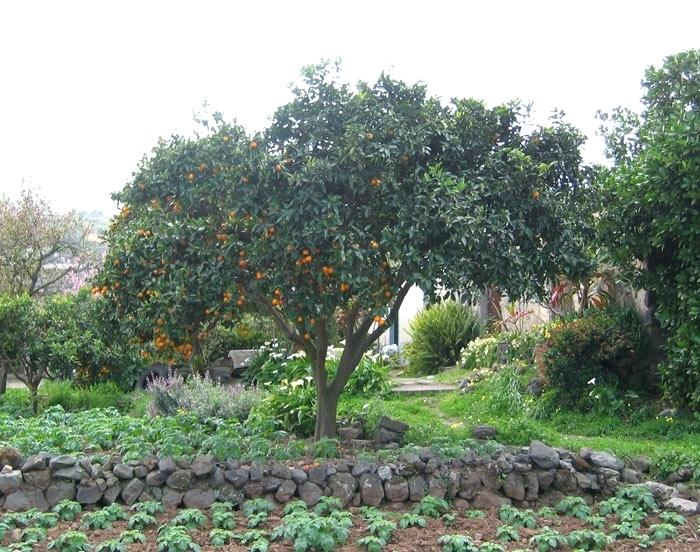orange: (301, 248, 311, 257), (198, 163, 207, 173), (143, 229, 152, 238), (532, 190, 540, 200), (238, 248, 246, 257), (255, 271, 263, 280), (384, 290, 392, 299), (366, 132, 374, 141), (137, 228, 145, 236), (239, 259, 247, 267), (299, 256, 307, 264), (223, 135, 231, 143), (274, 164, 282, 172), (187, 173, 195, 181), (242, 176, 250, 184), (229, 210, 237, 218), (137, 291, 145, 299), (174, 204, 181, 213), (275, 288, 282, 296), (272, 297, 279, 305), (276, 298, 284, 305), (304, 255, 312, 262), (251, 141, 258, 149), (146, 289, 153, 297), (91, 287, 98, 295), (185, 344, 193, 351), (142, 350, 149, 358), (328, 267, 335, 275), (370, 179, 377, 187), (402, 154, 410, 161), (269, 226, 276, 233), (139, 184, 146, 191), (114, 259, 121, 266), (95, 285, 102, 292), (310, 317, 317, 324), (297, 315, 304, 322), (163, 338, 170, 345), (379, 319, 386, 326), (371, 243, 378, 250), (159, 318, 165, 326), (296, 258, 302, 265), (266, 231, 272, 238), (219, 255, 225, 262), (238, 299, 245, 305), (101, 289, 107, 296), (304, 334, 310, 341), (205, 308, 212, 314), (224, 291, 231, 297), (123, 211, 130, 217), (156, 337, 162, 344), (158, 342, 165, 348), (322, 266, 328, 273), (240, 295, 246, 301), (115, 282, 121, 288), (103, 286, 109, 292), (224, 297, 230, 303), (221, 222, 227, 228), (160, 333, 166, 339), (138, 337, 144, 343), (375, 315, 381, 321), (341, 287, 347, 293), (339, 281, 345, 287), (124, 268, 129, 275), (345, 284, 350, 290), (153, 270, 159, 275), (122, 206, 127, 211), (126, 210, 131, 214), (103, 367, 107, 371)
